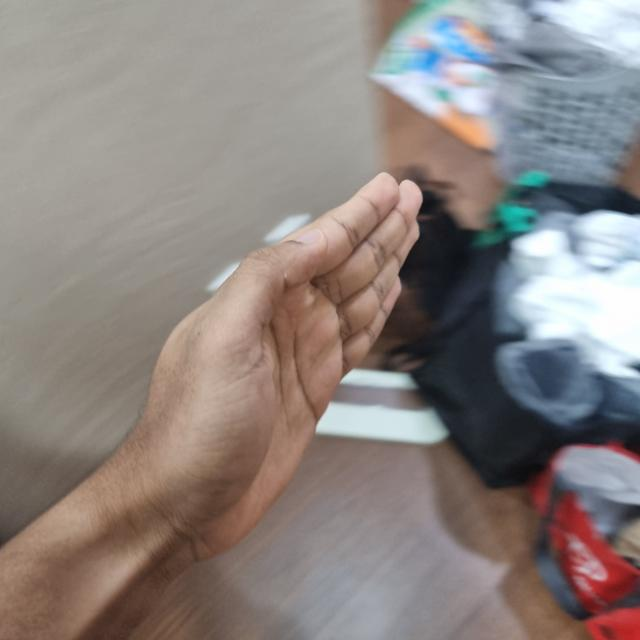Paper: (139, 174, 420, 551)
